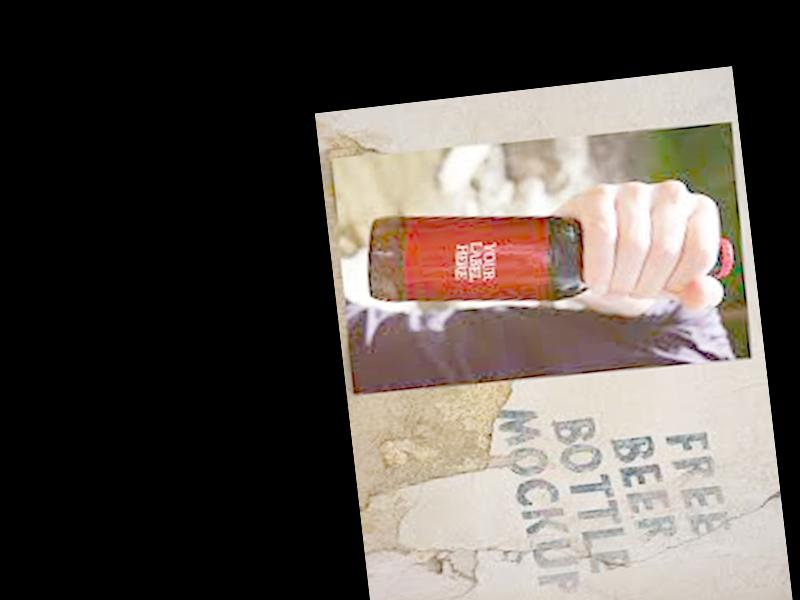Beer: (361, 178, 734, 318)
